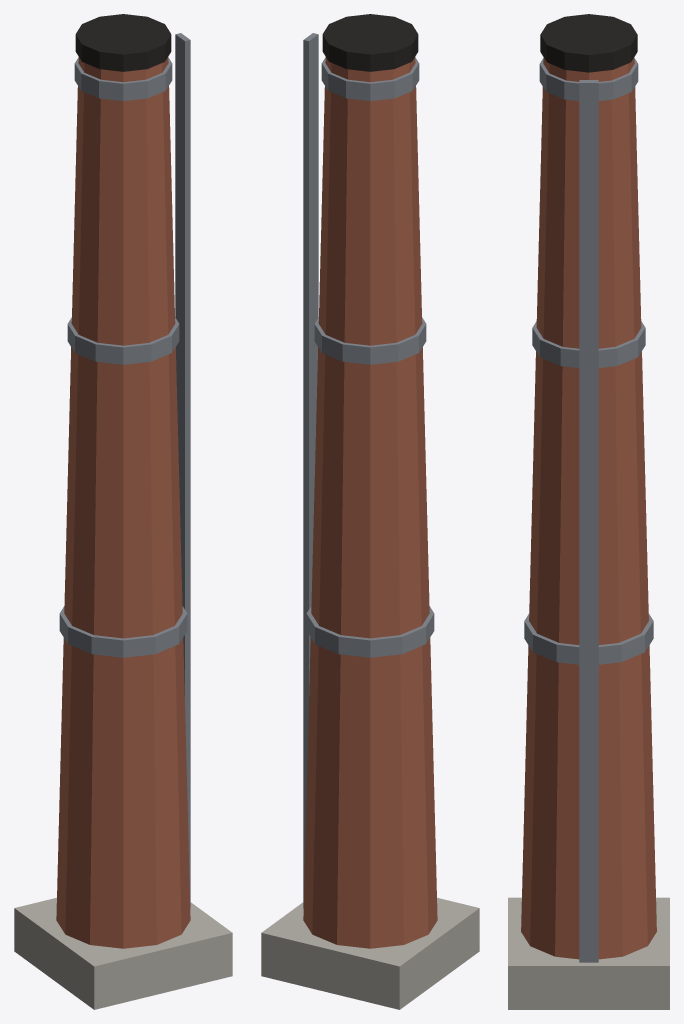
Rendered from chimney_stack.glb.
3 views of the same model, side by side, from view 1: azimuth 30°, elevation 25°; view 2: azimuth 150°, elevation 25°; view 3: azimuth 270°, elevation 25° (orthographic).
Visible parts, largest first — view 1: chimney_stack_mesh; view 2: chimney_stack_mesh; view 3: chimney_stack_mesh.
Boxes of the visible parts, x1,y1,x2,y2 form: chimney_stack_mesh: (14,14,232,1009); chimney_stack_mesh: (261,14,479,1009); chimney_stack_mesh: (508,14,669,1009).
Size of the model in its own units: 0.1 by 0.642 by 0.1.
